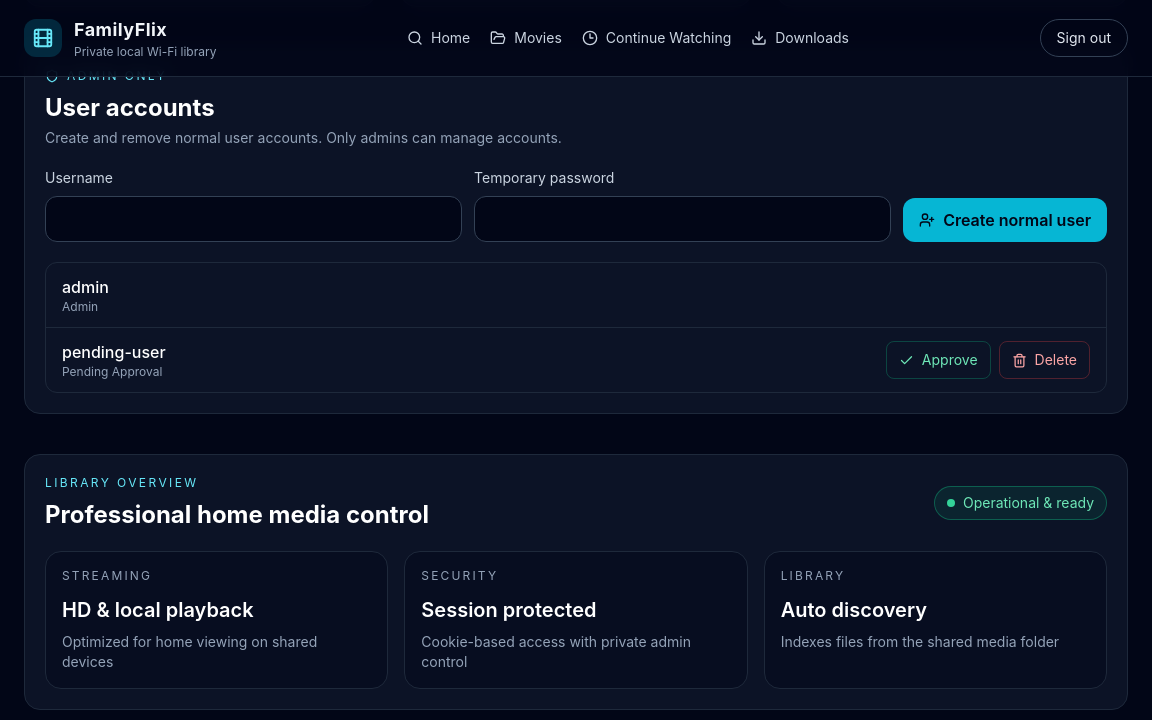
Test: FamilyFlix app › lets admins approve pending users
(page scrolled)
Expected: the text "Pending approval" is shown, [62,364,166,380]
Click the button with aria-label "Approve pending-user": (938, 360) [886,341,990,379]
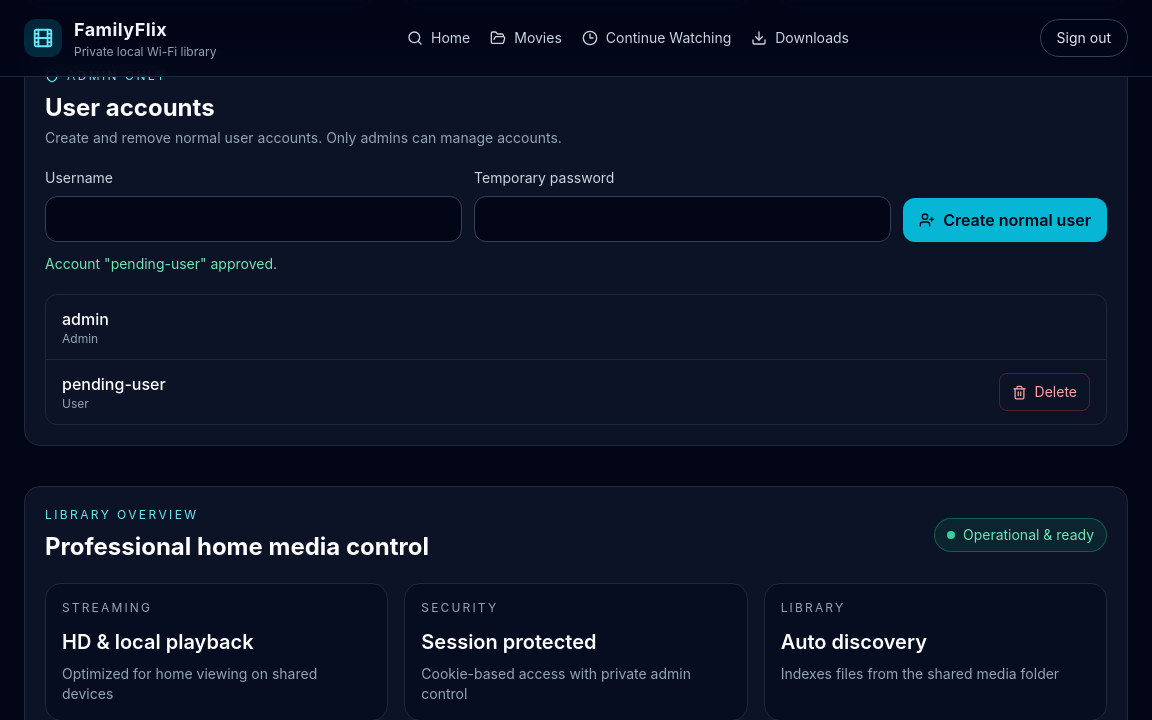
Expected: the text "Account \"pending-user\" approved." is shown, [45,255,277,272]
Expected: the text "user" is shown, [62,396,89,411]
